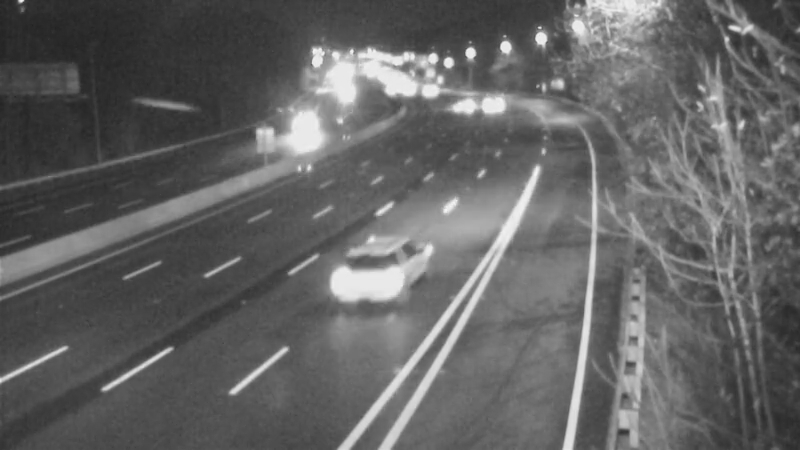vehicle: (319, 243, 399, 323), (406, 70, 456, 120), (469, 83, 519, 133), (440, 82, 490, 132), (283, 102, 333, 152)
